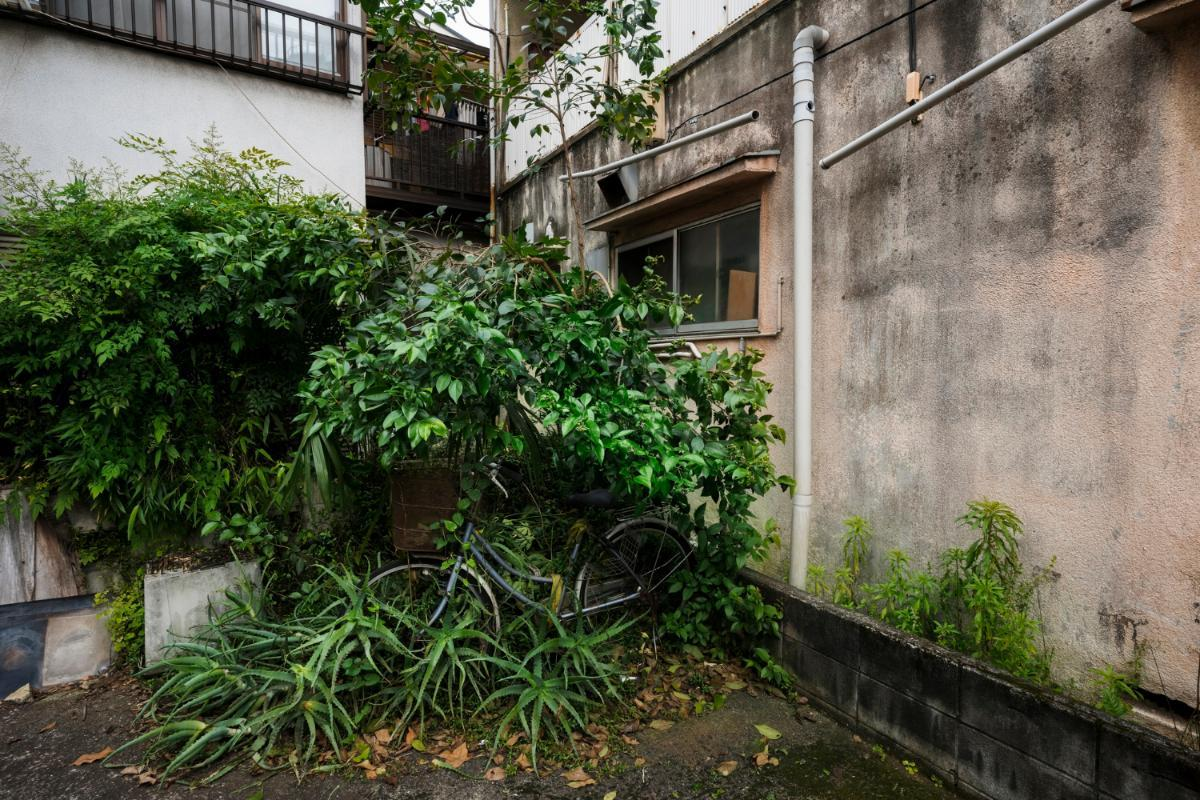overgrown grass: (155, 532, 762, 742), (853, 509, 1087, 704)
